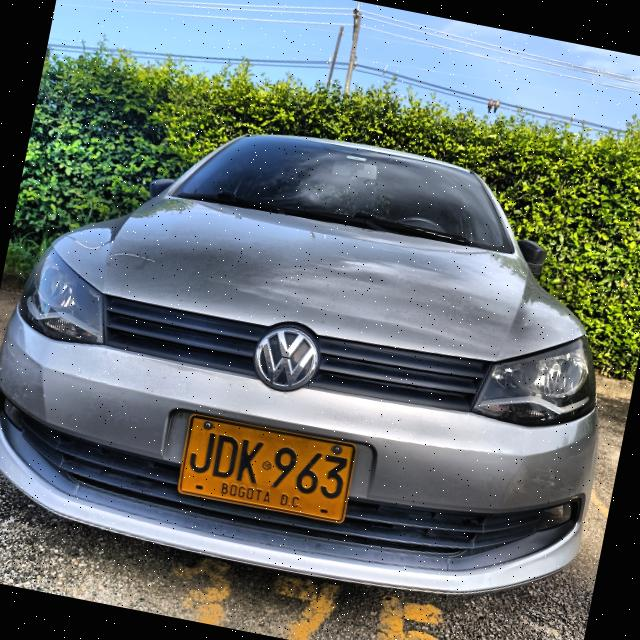3: (316, 453, 349, 502)
6: (292, 448, 324, 498)
9: (268, 443, 300, 492)
D: (210, 432, 242, 482)
J: (185, 428, 218, 477)
K: (233, 436, 266, 486)
